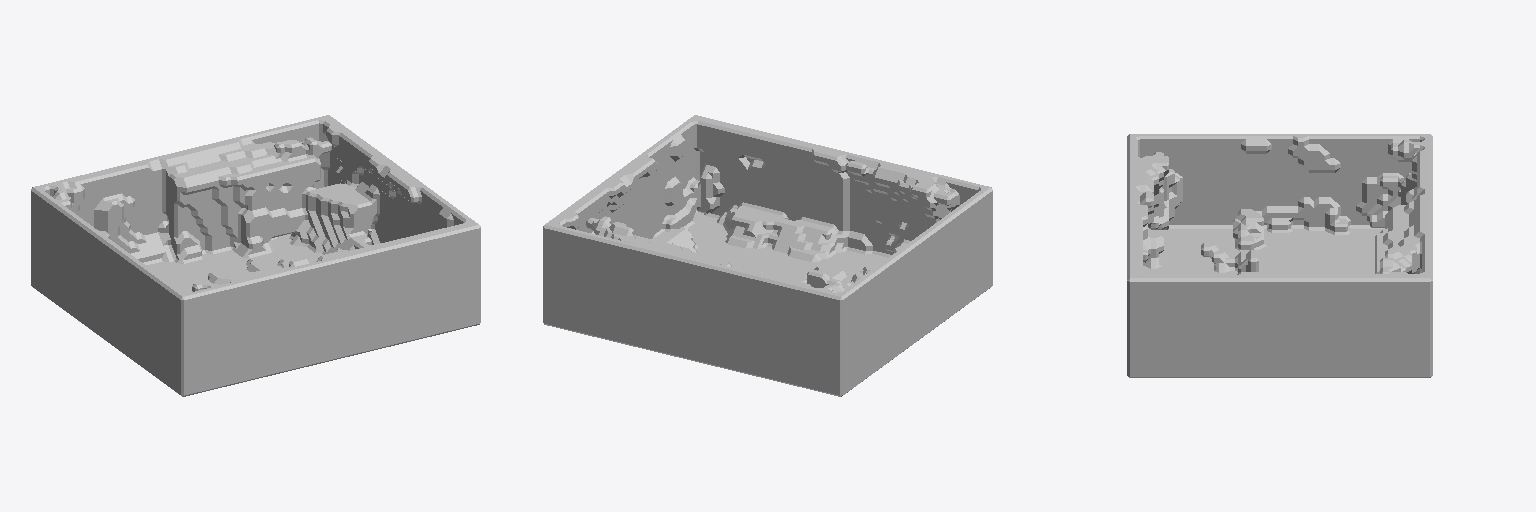
Rendered from Input_prediction_mesh.obj.
3 renders of one model, left to right at view 1: azimuth 30°, elevation 25°; view 2: azimuth 150°, elevation 25°; view 3: azimuth 270°, elevation 25°, orthographic.
Visible parts, largest first — view 1: mat1, mat2, mat0, mat3, mat5; view 2: mat1, mat2, mat0, mat3; view 3: mat1, mat2, mat0, mat3, mat4.
Part boxes in pixels (x1,y1,x2,y2): mat1: (31,115,480,389); mat2: (52,137,432,354); mat0: (31,233,480,396); mat3: (51,185,453,331); mat5: (246,251,293,271); mat1: (543,115,992,389); mat2: (584,161,959,358); mat0: (543,144,992,396); mat3: (622,135,848,292); mat1: (1127,134,1432,371); mat2: (1127,151,1432,371); mat0: (1127,205,1432,377); mat3: (1157,139,1419,352); mat4: (1233,209,1266,249).
Size of the model in its own units: 5.28 by 1.68 by 4.64.